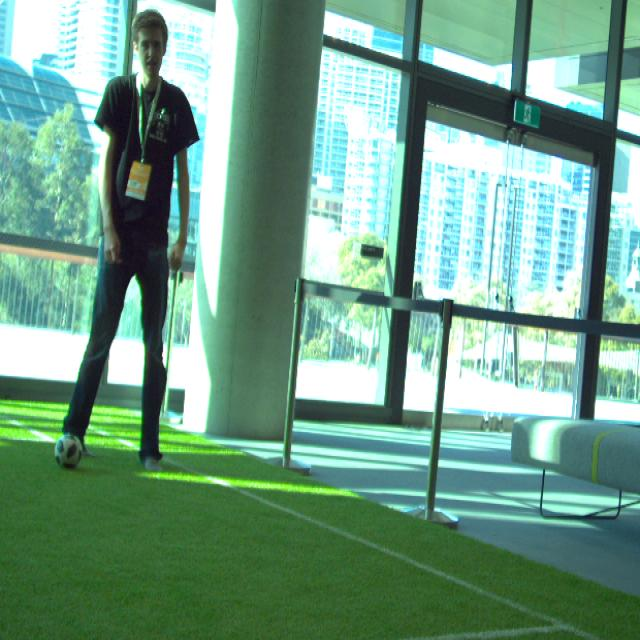ball: (54, 434, 82, 469)
